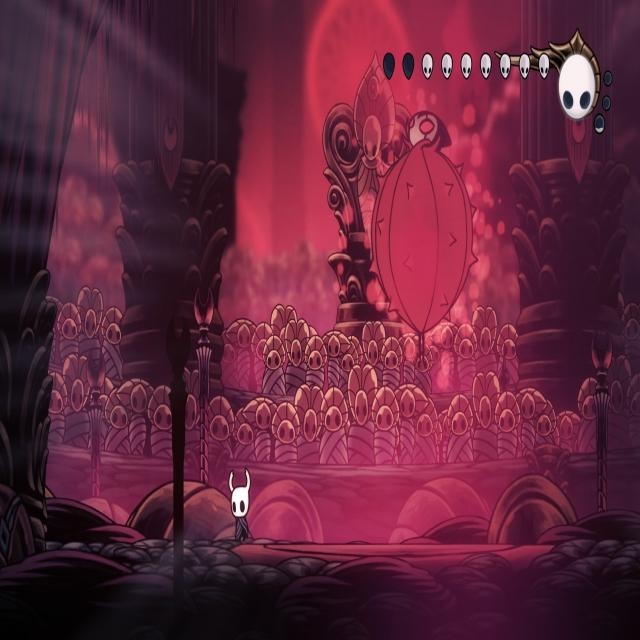Player: (226, 462, 255, 544)
Pufferfish: (365, 105, 482, 372)
